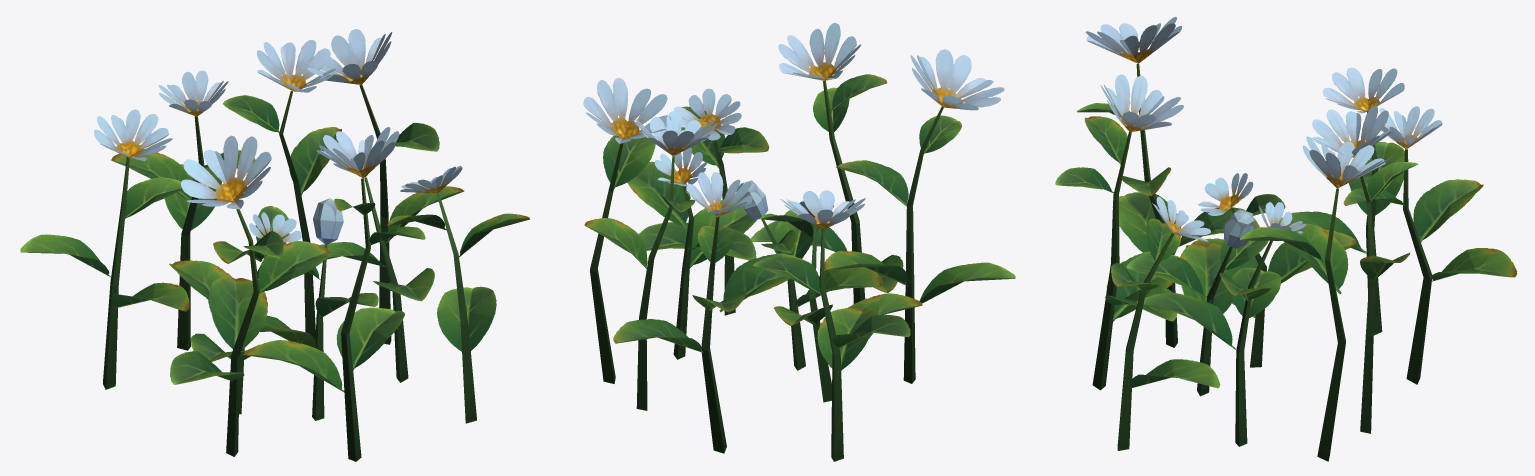
File: P_Flowerchuju_03.obj
3 renders of one model, left to right at view 1: azimuth 30°, elevation 25°; view 2: azimuth 150°, elevation 25°; view 3: azimuth 270°, elevation 25°, orthographic. The views are drawn at different scales.
Bounding box in the file's own units: 0.803 × 0.6563 × 0.8424.
1 material, 1 textured.
